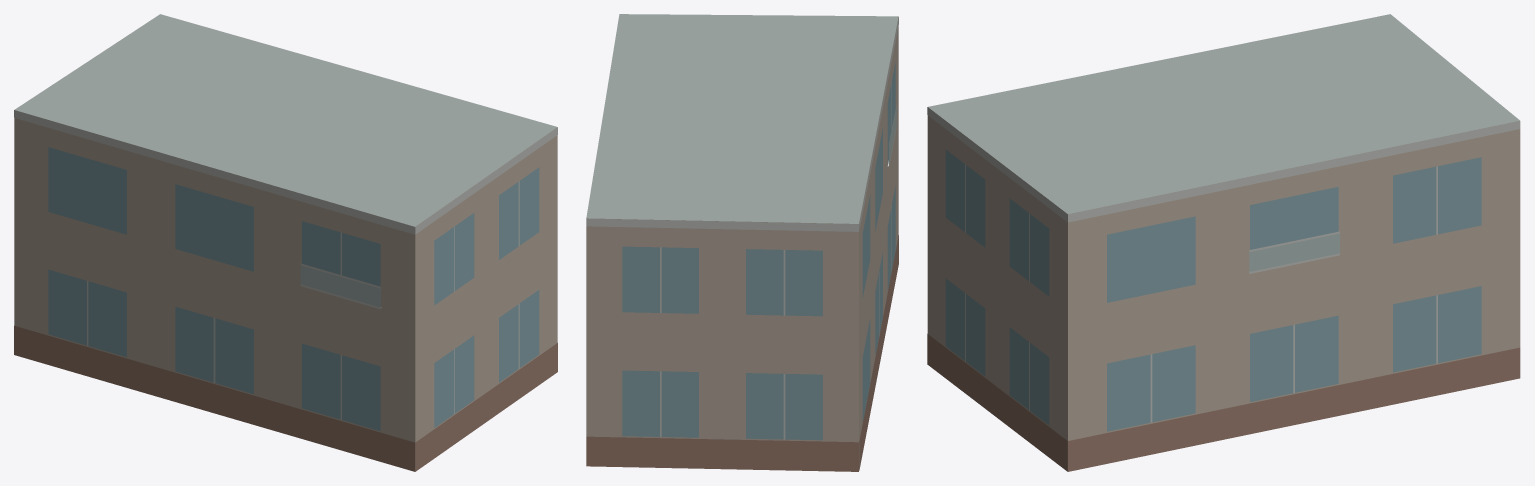
Rendered from survey-upis-32734332.glb.
3 views of the same model, side by side, from view 1: azimuth 30°, elevation 25°; view 2: azimuth 150°, elevation 25°; view 3: azimuth 270°, elevation 25° (orthographic). The views are drawn at different scales.
Visible parts, largest first — view 1: survey-upis-32734332.tmp; view 2: survey-upis-32734332.tmp; view 3: survey-upis-32734332.tmp.
Boxes of the visible parts, x1,y1,x2,y2 form: survey-upis-32734332.tmp: (14,14,557,471); survey-upis-32734332.tmp: (586,14,898,471); survey-upis-32734332.tmp: (927,14,1520,471).
Bounding box in the file's own units: 12.68 × 7.6 × 15.86.
